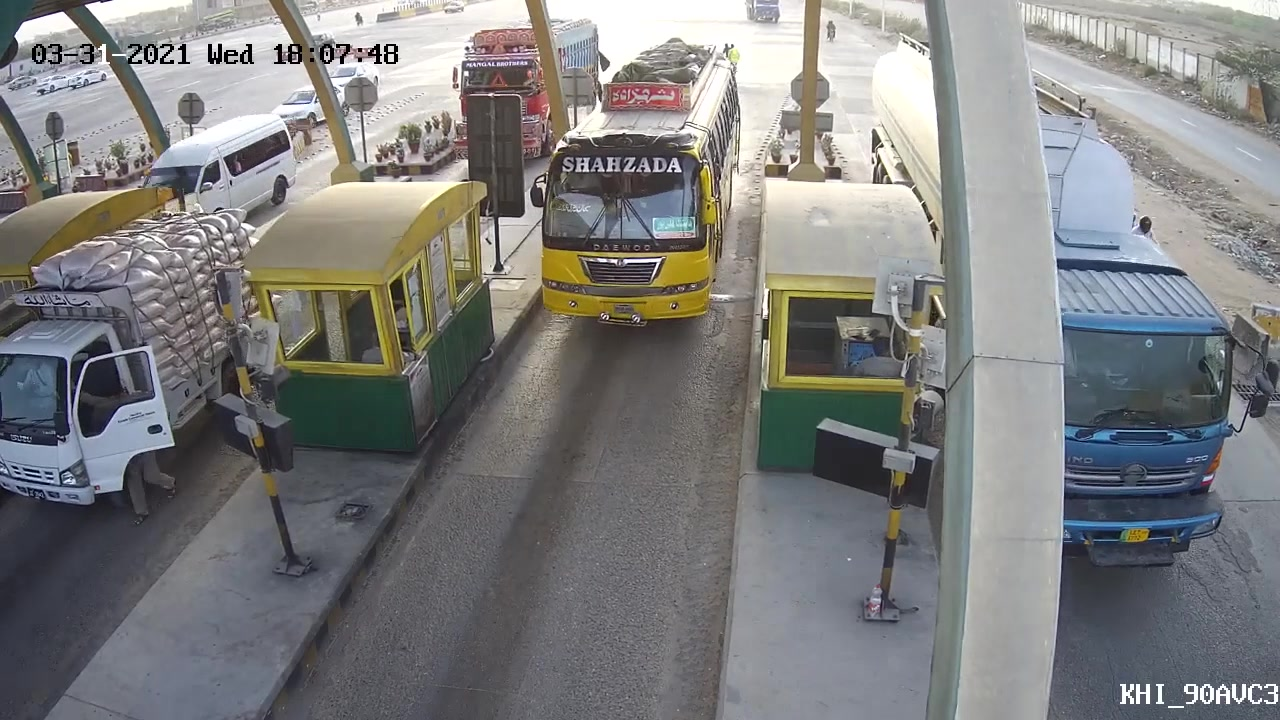F4: (520, 46, 747, 333)
